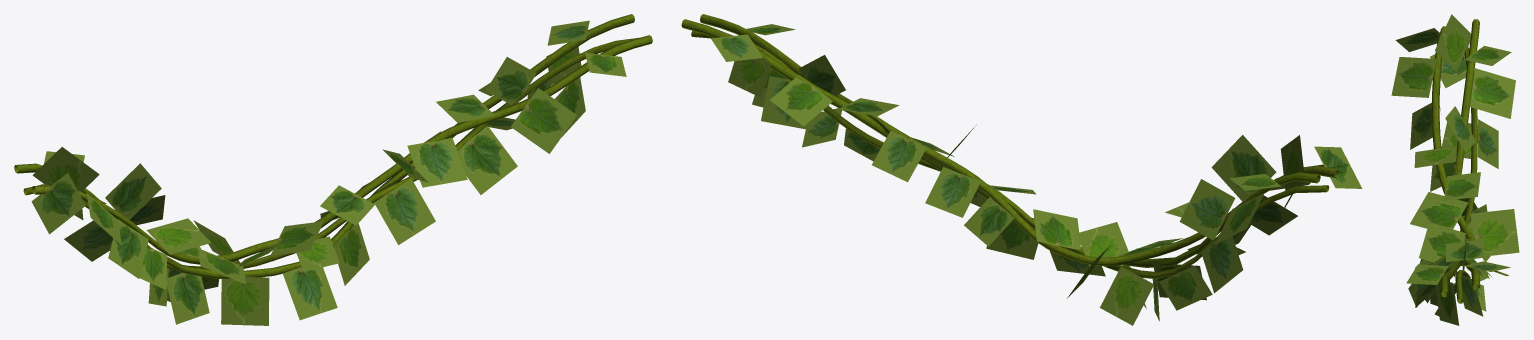
The model's file is sb_obj_nature010_Jungles02d.fbx.
3 renders of one model, left to right at view 1: azimuth 30°, elevation 25°; view 2: azimuth 150°, elevation 25°; view 3: azimuth 270°, elevation 25°, orthographic. The views are drawn at different scales.
Visible parts, largest first — view 1: leaf02d, sb_obj_nature010_Jungles02d; view 2: leaf02d, sb_obj_nature010_Jungles02d; view 3: leaf02d, sb_obj_nature010_Jungles02d.
Part boxes in pixels (<box>): leaf02d: <box>31,20,626,325</box>; sb_obj_nature010_Jungles02d: <box>14,14,652,278</box>; leaf02d: <box>711,24,1362,325</box>; sb_obj_nature010_Jungles02d: <box>681,14,1338,278</box>; leaf02d: <box>1391,14,1519,325</box>; sb_obj_nature010_Jungles02d: <box>1431,19,1479,303</box>.
Size of the model in its own units: 4.03 by 1.31 by 0.8168.
